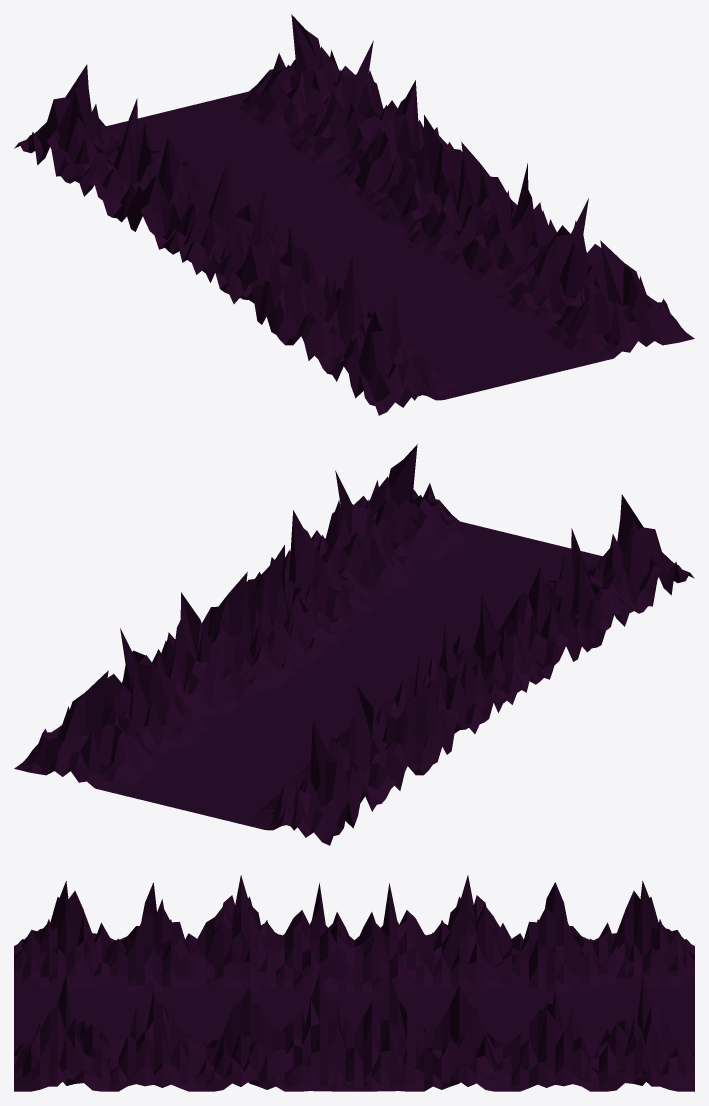
The picture shows the model from 3 angles, top to bottom: view 1: azimuth 30°, elevation 25°; view 2: azimuth 150°, elevation 25°; view 3: azimuth 270°, elevation 25°; orthographic projection. The views are drawn at different scales.
Visible parts, largest first — view 1: Plane.001; view 2: Plane.001; view 3: Plane.001.
Part boxes in pixels (x1,y1,x2,y2): Plane.001: (14,14,694,415); Plane.001: (14,444,694,845); Plane.001: (14,875,694,1091).
Bounding box in the file's own units: 8 × 2.28 × 16.
